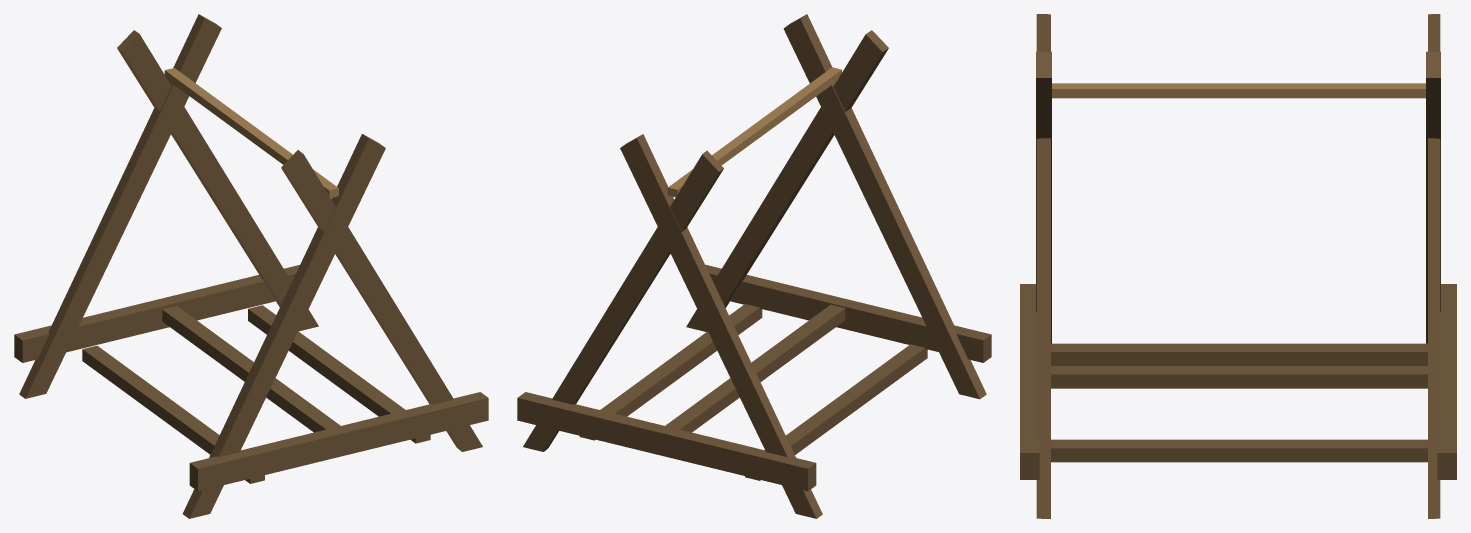
File: BarrelsStand_1.fbx
The picture shows the model from 3 angles, left to right: view 1: azimuth 30°, elevation 25°; view 2: azimuth 150°, elevation 25°; view 3: azimuth 270°, elevation 25°; orthographic projection. The views are drawn at different scales.
Visible parts, largest first — view 1: BarrelsStand_1; view 2: BarrelsStand_1; view 3: BarrelsStand_1.
Boxes of the visible parts, bbox=[...] form: BarrelsStand_1: bbox=[14, 14, 488, 518]; BarrelsStand_1: bbox=[517, 14, 991, 518]; BarrelsStand_1: bbox=[1020, 14, 1456, 518].
Size of the model in its own units: 131 by 143 by 141.
